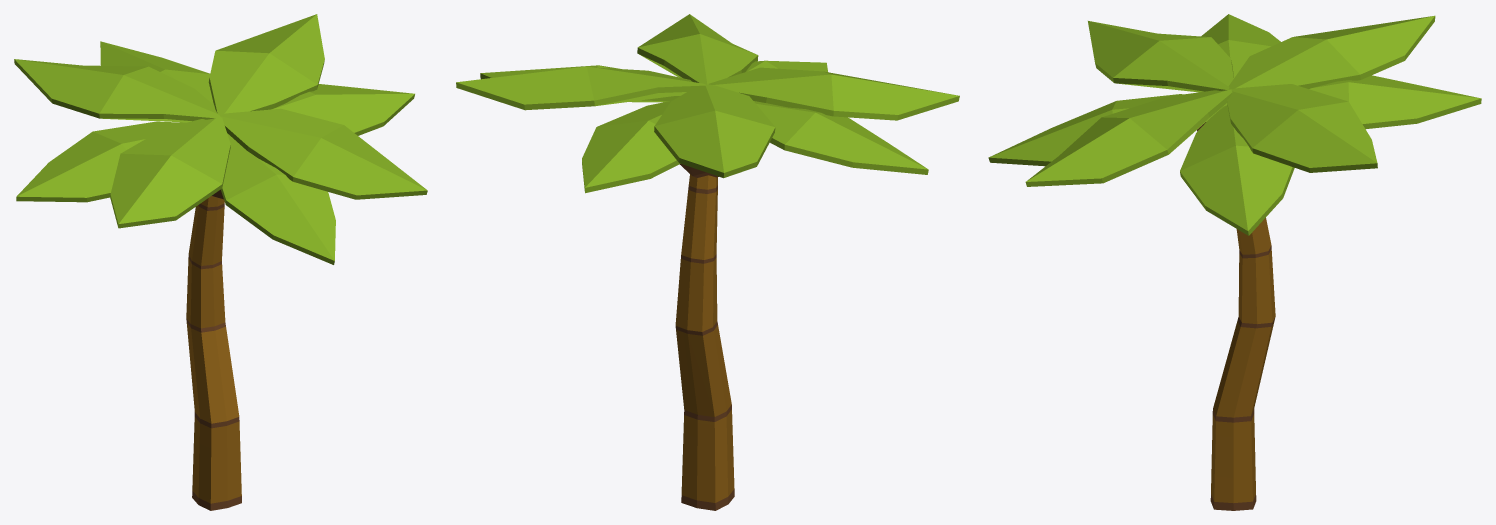
The model's file is palmera02.fbx.
3 renders of one model, left to right at view 1: azimuth 30°, elevation 25°; view 2: azimuth 150°, elevation 25°; view 3: azimuth 270°, elevation 25°, orthographic. The views are drawn at different scales.
Parts seen in each view (by area): view 1: palmera02; view 2: palmera02; view 3: palmera02.
Part boxes in pixels (left/top/right/bottom): palmera02: left=14, top=14, right=427, bottom=510; palmera02: left=456, top=14, right=959, bottom=510; palmera02: left=988, top=14, right=1481, bottom=510.
Bounding box in the file's own units: 1.63 × 1.59 × 1.55.
